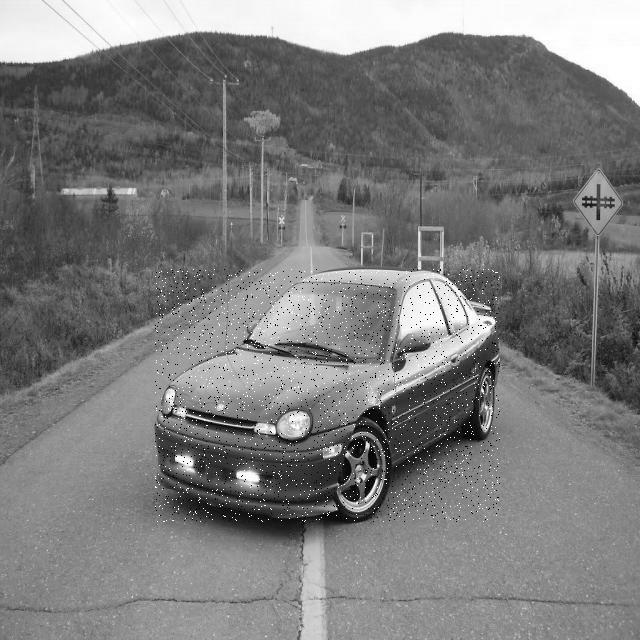Sedan: (155, 269, 500, 522)
